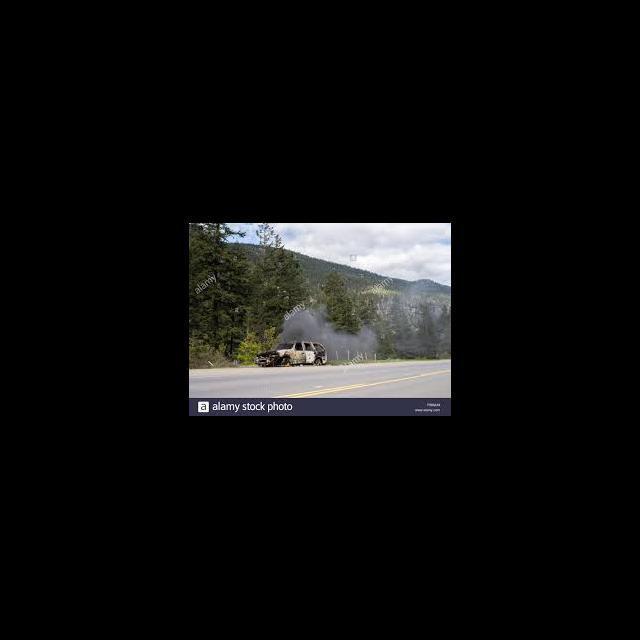Smoke: (283, 308, 382, 360)
